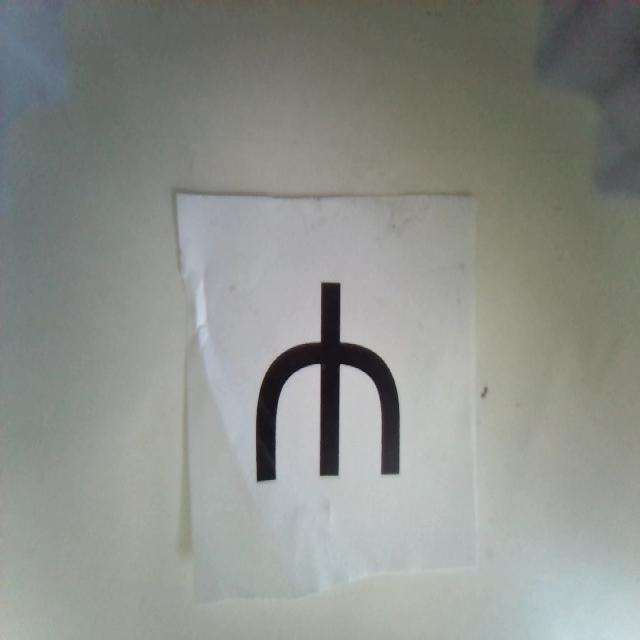nedoF: (254, 280, 402, 480)
